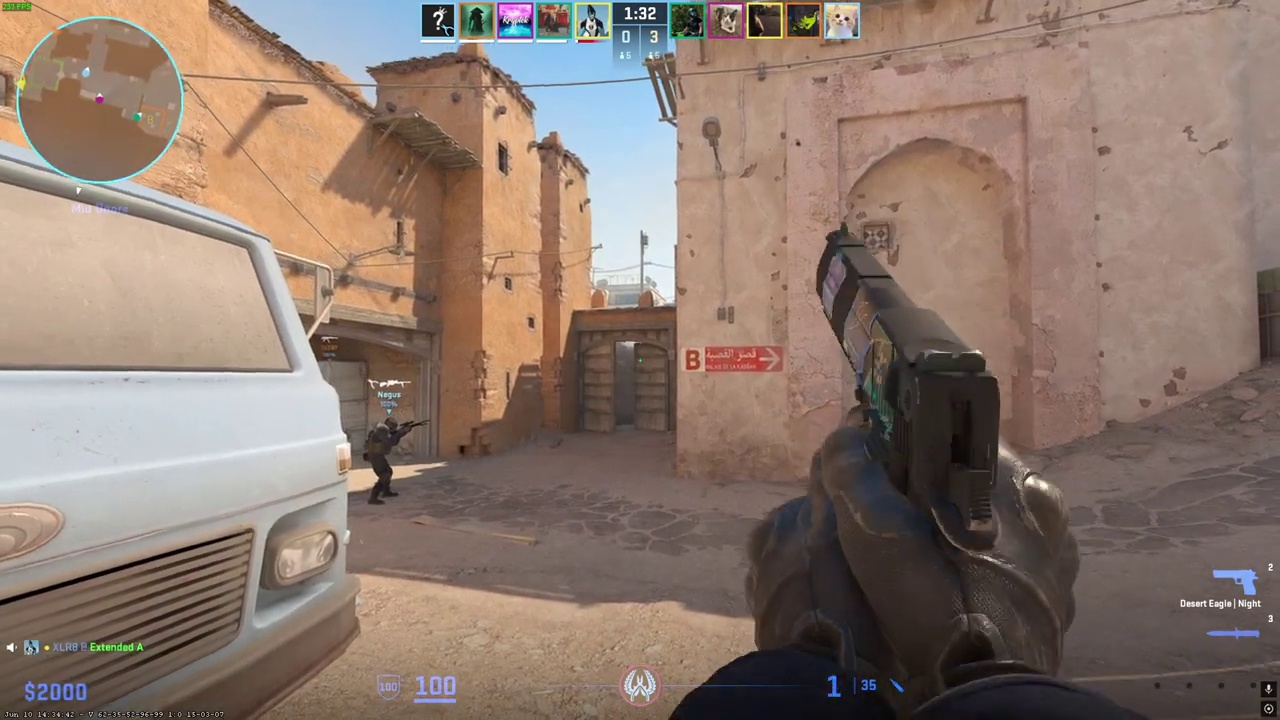CT: (364, 417, 401, 504)
